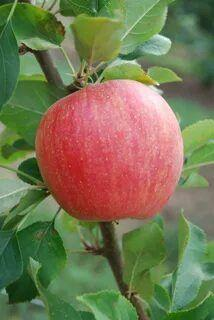Apple: (35, 79, 183, 219)
